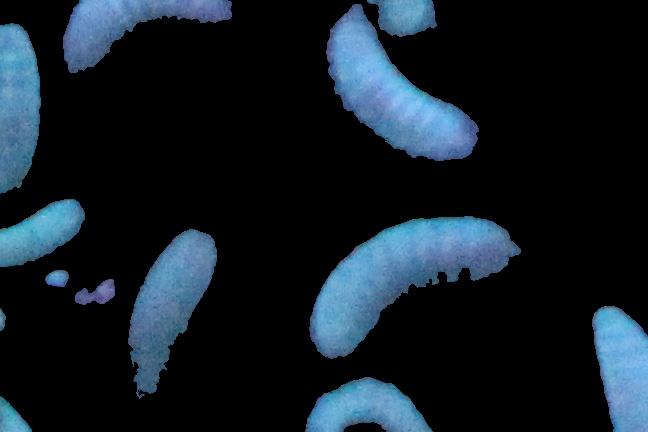larvae: (308, 216, 522, 359), (324, 4, 477, 163), (124, 230, 220, 408), (61, 1, 240, 95), (302, 373, 437, 432), (589, 303, 648, 432), (1, 16, 40, 210), (1, 195, 87, 265)
